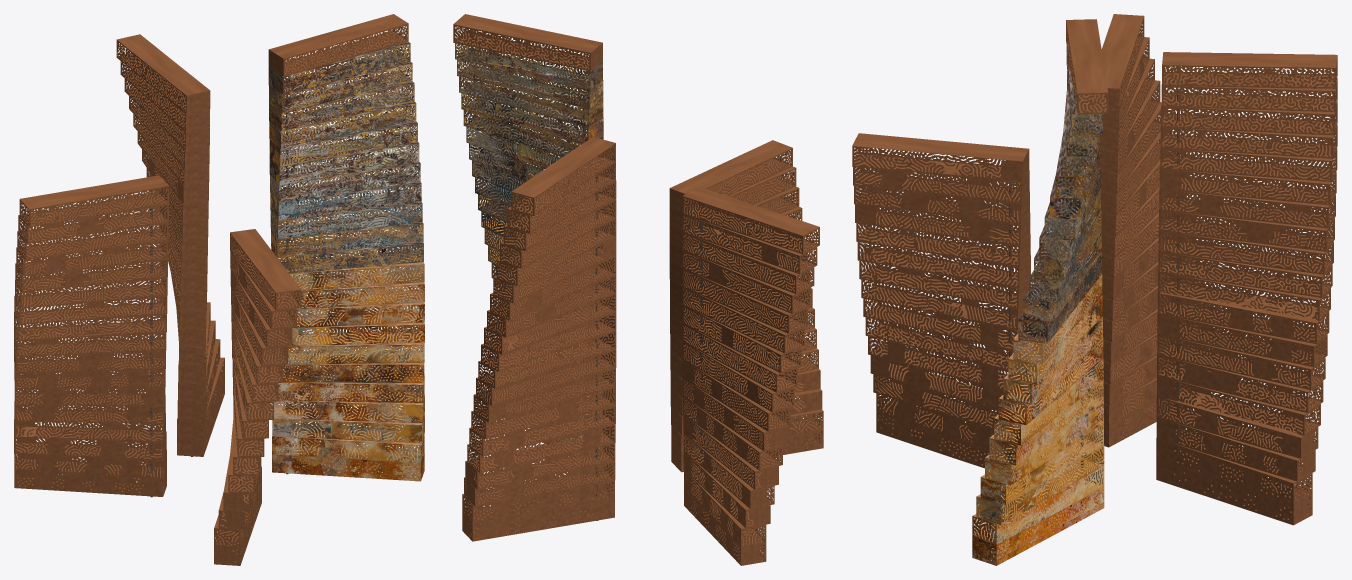
Rendered from structure_lowpoly.gltf.
3 views of the same model, side by side, from view 1: azimuth 30°, elevation 25°; view 2: azimuth 150°, elevation 25°; view 3: azimuth 270°, elevation 25° (orthographic). The views are drawn at different scales.
Visible parts, largest first — view 1: LP_P3_Box-17, LP_P1_Box-23, LP_P1_Box-17, LP_P1_Box-19, LP_P1_Box-14, LP_P3_Box-09, LP_P3_Box-14, LP_P1_Box-12, LP_P3_Box-10, LP_P2_Box-20, LP_P3_Box-01, LP_P1_Box-06 (+63 smaller); view 2: LP_P1_Box-23, LP_P3_Box-17, LP_P2_Box-20, LP_P2_Box-09, LP_P3_Box-14, LP_P2_Box-05, LP_P1_Box-19, LP_P2_Box-03, LP_P4_Box-15, LP_P2_Box-11, LP_P3_Box-09, LP_P3_Box-11 (+47 smaller); view 3: LP_P2_Box-20, LP_P4_Box-15, LP_P2_Box-09, LP_P2_Box-19, LP_P2_Box-17, LP_P2_Box-14, LP_P4_Box-14, LP_P2_Box-12, LP_P2_Box-11, LP_P2_Box-06, LP_P2_Box-05, LP_P2_Box-10 (+63 smaller).
Boxes of the visible parts, x1,y1,x2,y2 form: LP_P3_Box-17: [19, 175, 169, 227]; LP_P1_Box-23: [268, 14, 408, 76]; LP_P1_Box-17: [269, 133, 419, 184]; LP_P1_Box-19: [269, 93, 416, 148]; LP_P1_Box-14: [270, 193, 422, 238]; LP_P3_Box-09: [14, 321, 166, 357]; LP_P3_Box-14: [16, 230, 168, 276]; LP_P1_Box-12: [271, 233, 423, 273]; LP_P3_Box-10: [14, 303, 166, 340]; LP_P2_Box-20: [116, 34, 210, 113]; LP_P3_Box-01: [14, 459, 166, 496]; LP_P1_Box-06: [277, 353, 424, 382]; LP_P1_Box-23: [453, 14, 602, 71]; LP_P3_Box-17: [682, 187, 819, 254]; LP_P2_Box-20: [511, 137, 615, 215]; LP_P2_Box-09: [476, 342, 616, 405]; LP_P3_Box-14: [682, 243, 811, 313]; LP_P2_Box-05: [467, 414, 615, 472]; LP_P1_Box-19: [461, 81, 603, 143]; LP_P2_Box-03: [464, 452, 615, 506]; LP_P4_Box-15: [669, 140, 792, 211]; LP_P2_Box-11: [481, 303, 616, 371]; LP_P3_Box-09: [682, 336, 794, 412]; LP_P3_Box-11: [682, 299, 801, 373]; LP_P2_Box-20: [1162, 52, 1337, 88]; LP_P4_Box-15: [852, 133, 1029, 182]; LP_P2_Box-09: [1157, 281, 1329, 344]; LP_P2_Box-19: [1161, 73, 1337, 112]; LP_P2_Box-17: [1160, 115, 1337, 158]; LP_P2_Box-14: [1159, 178, 1335, 228]; LP_P4_Box-14: [853, 152, 1029, 203]; LP_P2_Box-12: [1158, 219, 1333, 274]; LP_P2_Box-11: [1158, 240, 1332, 297]; LP_P2_Box-06: [1157, 344, 1323, 412]; LP_P2_Box-05: [1157, 365, 1320, 435]; LP_P2_Box-10: [1158, 260, 1330, 320].
Size of the model in its own units: 6.3 by 7 by 6.29.
11 materials, 10 textured.
